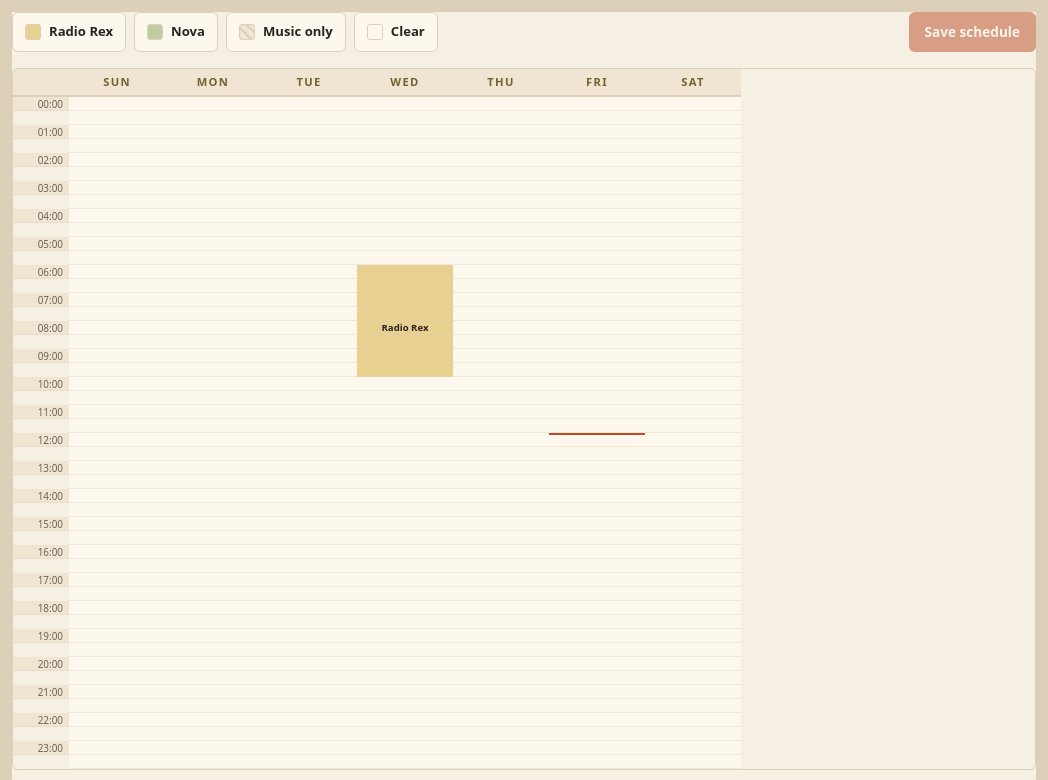
Test: Feature: Paint the week › Scenario: blocks open the envelope panel › clicking a block opens the side panel with its genre/energy overrides
The width and height of the screenshot is (1048, 780).
Press the mouse on the button named "Wednesday 07:30–08:00, Radio Rex" at (405, 314), box [357, 307, 453, 321]
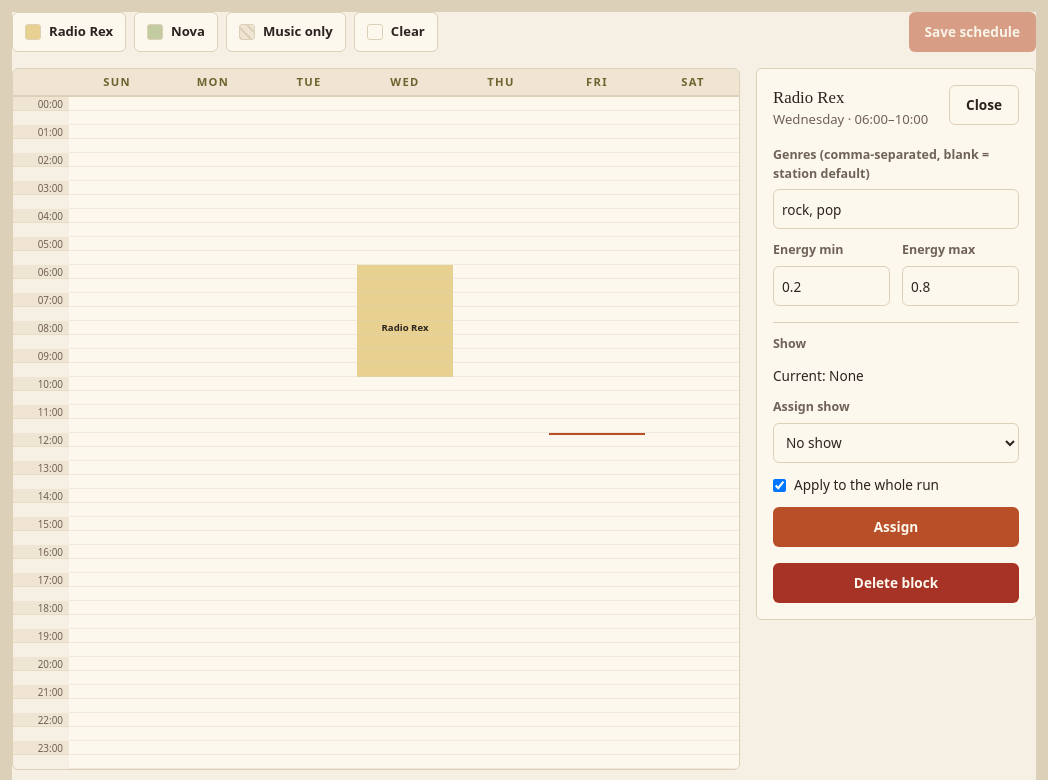
Result: the element named "Radio Rex block details" is shown at [756, 68, 1036, 620]
Result: the text "Wednesday · 06:00–10:00" is shown at [773, 110, 928, 130]
Result: the field labelled "Genres (comma-separated, blank = station default)" holds "rock, pop" at [773, 189, 1019, 229]
